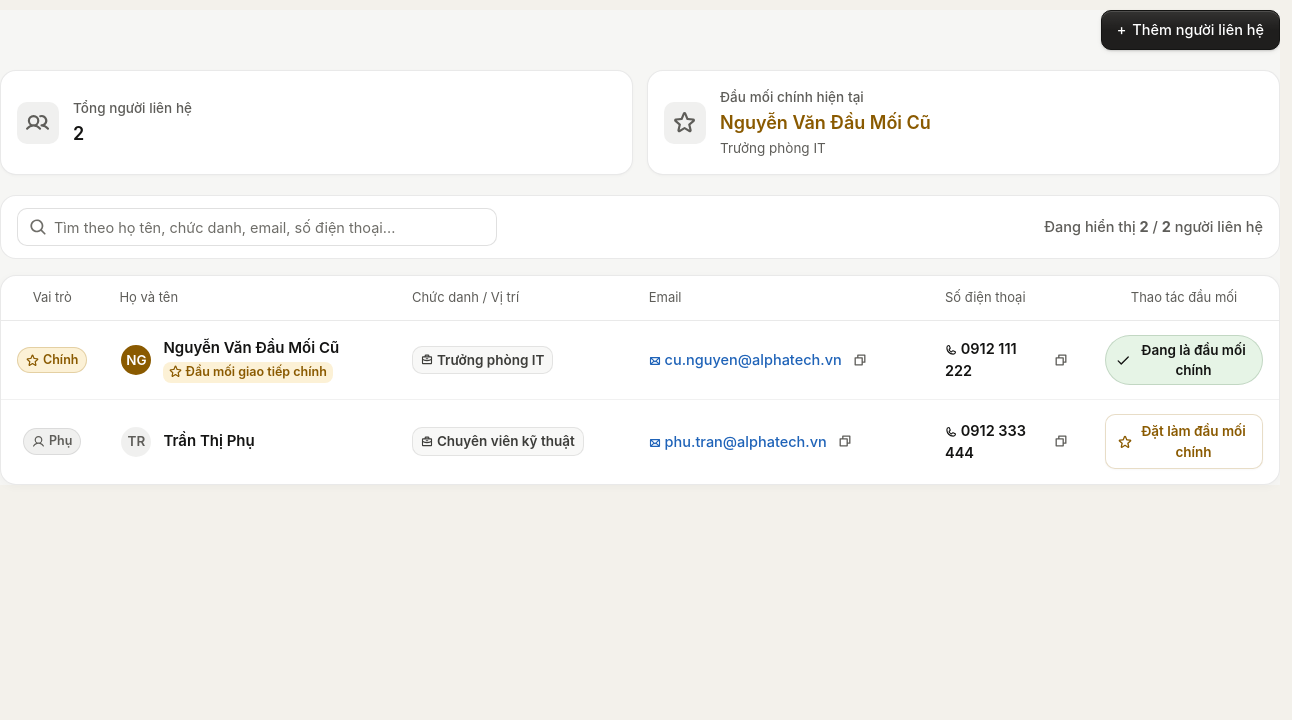
Test: Customer Contact Management Frontend (NCL-02-CN-003) › NCL-02-CN-003-TC-02: Dữ liệu trùng lặp / Đổi đầu mối chính › đánh dấu người thứ hai là đầu mối chính -> hệ thống chuyển người cũ thành đầu mối phụ và giữ duy nhất một đầu mối chính
Expected: the element with test id "badge-primary-1" is shown, top-left (17, 347), bottom-right (87, 373)
Expected: the element with test id "badge-secondary-2" is shown, top-left (23, 428), bottom-right (81, 455)
Note: Bấm nút "Đặt làm đầu mối chính" trên người thứ hai (ID 2)
Click the button with test id "btn-set-primary-2" at (1184, 442), box top-left (1105, 414), bottom-right (1263, 469)
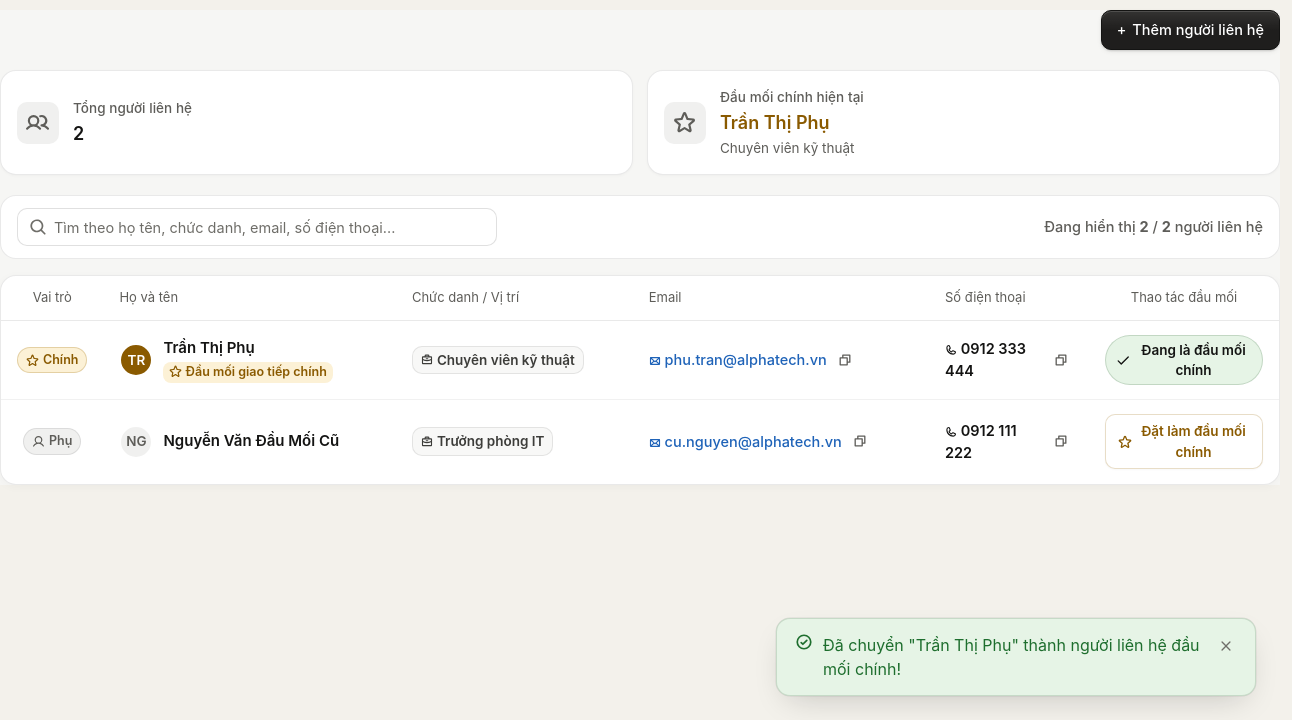
Expected: the element with test id "badge-primary-2" is shown, top-left (17, 347), bottom-right (87, 373)
Expected: the text with test id "stat-primary-name" reads "Trần Thị Phụ", top-left (720, 112), bottom-right (830, 133)
